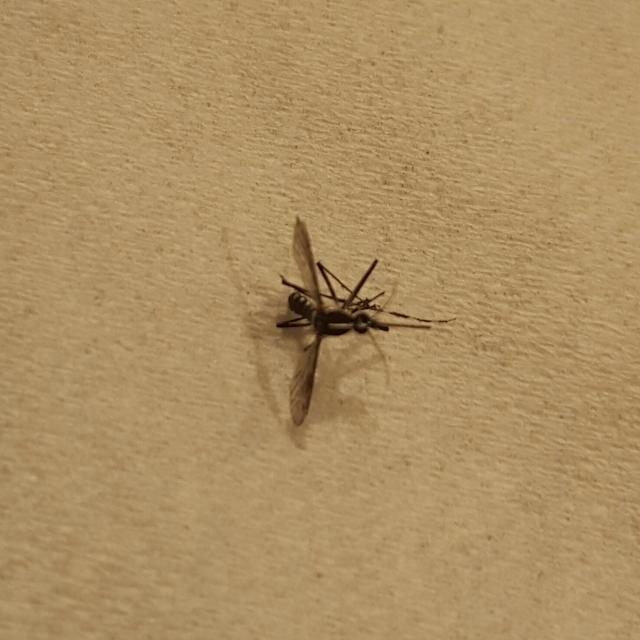albopictus: (259, 205, 463, 425)
